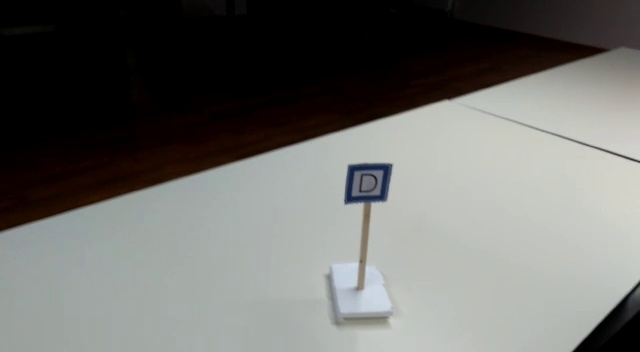durak: (346, 162, 390, 201)
